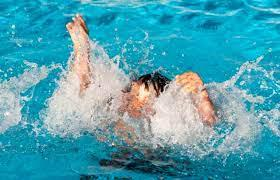drowning: (53, 7, 234, 150)
